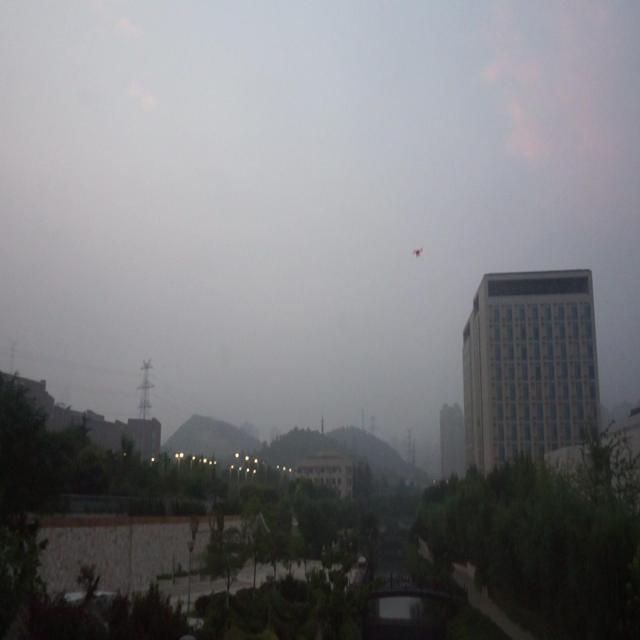drone: (410, 243, 428, 261)
